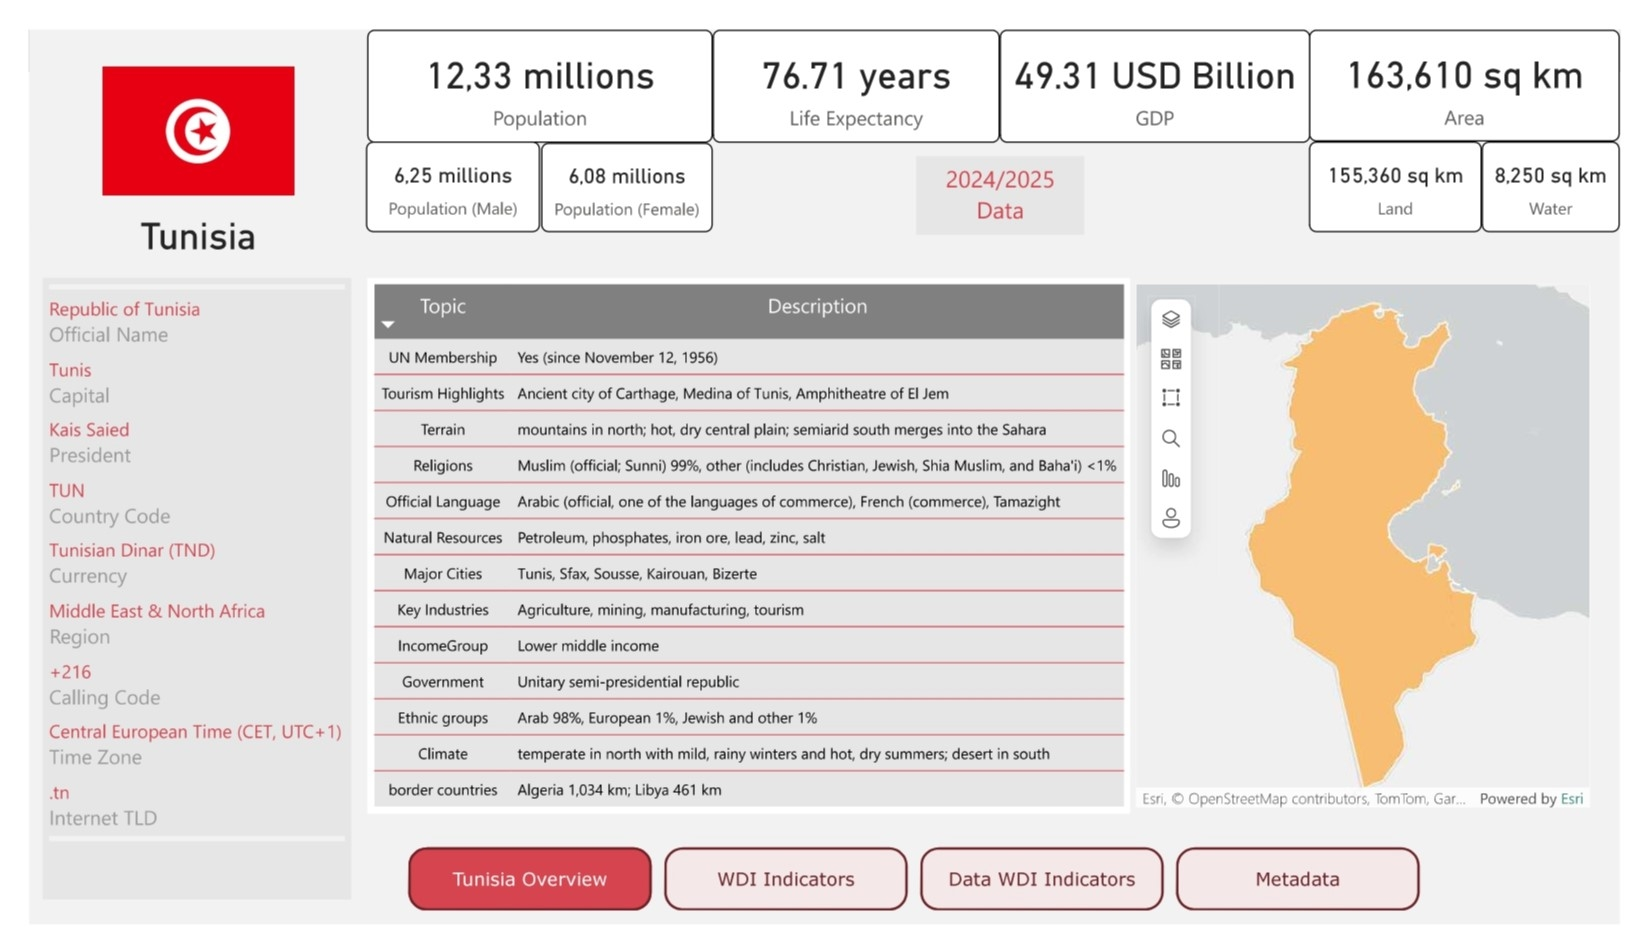

The dashboard page shown, as its layout file describes it:
{"tool":"powerbi","page":{"name":"Tunisia Overview","canvas":[1280,720],"ordinal":0},"visuals":[{"type":"image","box":[53.5,0,164.7,163.3],"z":0},{"type":"card","fields":{"Values":["country_metadata.Area"]},"box":[1030.3,0,249.7,90.5],"z":1000},{"type":"card","fields":{"Values":["country_metadata.Water"]},"box":[1169,90.5,111,72.4],"z":2000},{"type":"card","fields":{"Values":["country_metadata.Land"]},"box":[1030.3,90.5,138.7,72.4],"z":3000},{"type":"multiRowCard","fields":{"Values":["country_metadata.Official Name","country_metadata.Capital","country_metadata.President","country_metadata.Country Code","country_metadata.Currency","country_metadata.Region","country_metadata.Calling Code","country_metadata.Time Zone","country_metadata.Internet TLD"]},"box":[11,200.3,248.4,499.5],"z":4000},{"type":"esriVisual","fields":{"Location":["country_metadata.Country Name"]},"box":[886.5,200.3,374.6,430.9],"z":5000},{"type":"card","fields":{"Values":["country_metadata.GDP"]},"box":[780.8,0,249.7,90.6],"z":6000},{"type":"card","fields":{"Values":["country_metadata.Life Expectancy"]},"box":[550.3,0,230.5,90.6],"z":7000},{"type":"card","fields":{"Values":["country_metadata.Population"]},"box":[271.7,0,278.6,90.6],"z":8000},{"type":"tableEx","fields":{"Values":["country_metadata_pivot.Topic","country_metadata_pivot.Description"]},"box":[271.7,200.3,614.8,430.9],"z":9000},{"type":"card","fields":{"Values":["country_metadata.Population (Male)"]},"box":[271.4,90.5,139.9,72.4],"z":10000},{"type":"card","fields":{"Values":["country_metadata.Population (Female)"]},"box":[411.7,90.6,138.6,72.7],"z":11000},{"type":"card","fields":{"Values":["country_metadata.Country Name"]},"box":[72.7,133.1,126.2,61.7],"z":12000},{"type":"textbox","box":[713.6,101.5,135.8,63.1],"z":13000},{"type":"pageNavigator","box":[305.2,657.5,814.3,51.9],"z":15000}]}

Visuals, with their boxes in screenshot pixels (x1, y1, x2, y2), scaled from the page's 1280x720 canvas onto the 1650x947 screenshot:
image: select_region(69, 0, 281, 215)
card - country_metadata.Area: select_region(1328, 0, 1649, 119)
card - country_metadata.Water: select_region(1507, 119, 1649, 214)
card - country_metadata.Land: select_region(1328, 119, 1507, 214)
multiRowCard - country_metadata.Official Name x country_metadata.Capital: select_region(14, 263, 334, 920)
esriVisual - country_metadata.Country Name: select_region(1143, 263, 1626, 830)
card - country_metadata.GDP: select_region(1006, 0, 1328, 119)
card - country_metadata.Life Expectancy: select_region(709, 0, 1006, 119)
card - country_metadata.Population: select_region(350, 0, 709, 119)
tableEx - country_metadata_pivot.Topic x country_metadata_pivot.Description: select_region(350, 263, 1143, 830)
card - country_metadata.Population (Male): select_region(350, 119, 530, 214)
card - country_metadata.Population (Female): select_region(531, 119, 709, 215)
card - country_metadata.Country Name: select_region(94, 175, 256, 256)
textbox: select_region(920, 134, 1095, 216)
pageNavigator: select_region(393, 865, 1443, 933)
